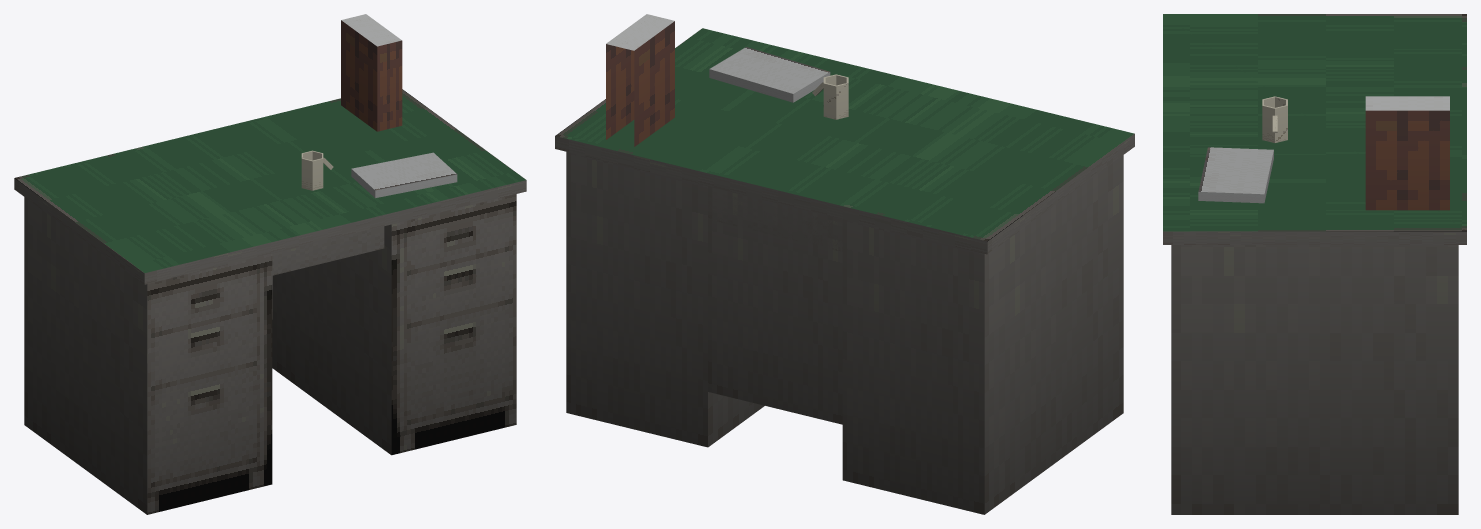
Rendered from prop_staffdesk-2.glb.
The picture shows the model from 3 angles, left to right: view 1: azimuth 30°, elevation 25°; view 2: azimuth 150°, elevation 25°; view 3: azimuth 270°, elevation 25°; orthographic projection. The views are drawn at different scales.
Visible parts, largest first — view 1: prop_staffdesk-2; view 2: prop_staffdesk-2; view 3: prop_staffdesk-2.
Boxes of the visible parts, x1,y1,x2,y2 form: prop_staffdesk-2: (14, 14, 526, 514); prop_staffdesk-2: (555, 14, 1134, 514); prop_staffdesk-2: (1163, 14, 1466, 514).
Size of the model in its own units: 1.26 by 1.04 by 0.7416.
5 materials, 5 textured.
